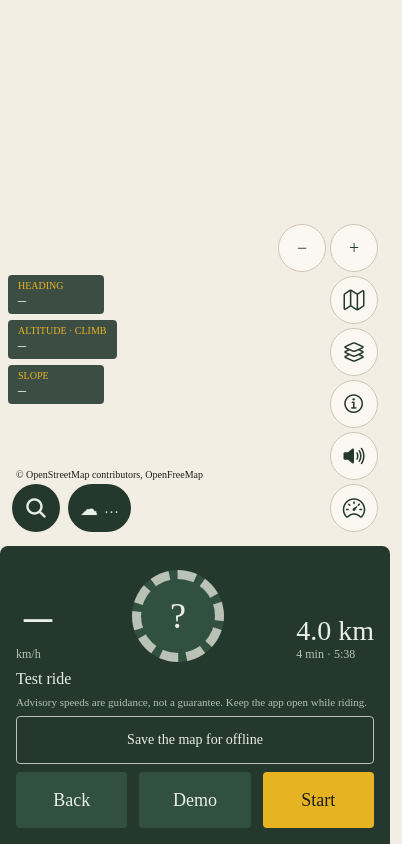
it: an answer of no route leaves the straight-line guidance and one request
Step 1. Click the button "Start" → (318, 800), box x1=263 y1=772 x2=374 y2=828
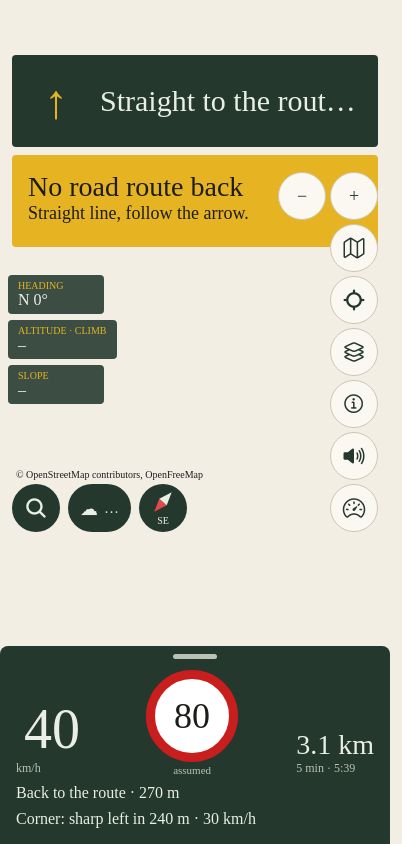
Now the text "No road route back" is shown, box x1=28 y1=171 x2=243 y2=202
